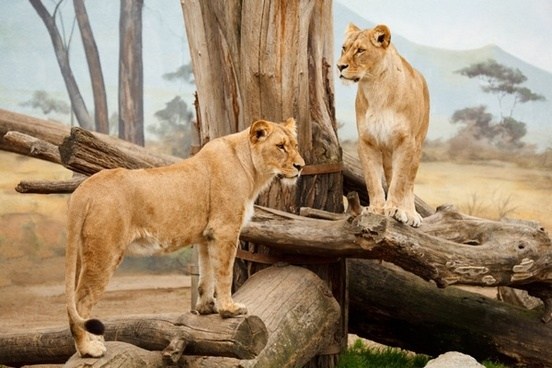lion: (248, 116, 305, 197), (333, 21, 391, 93)
